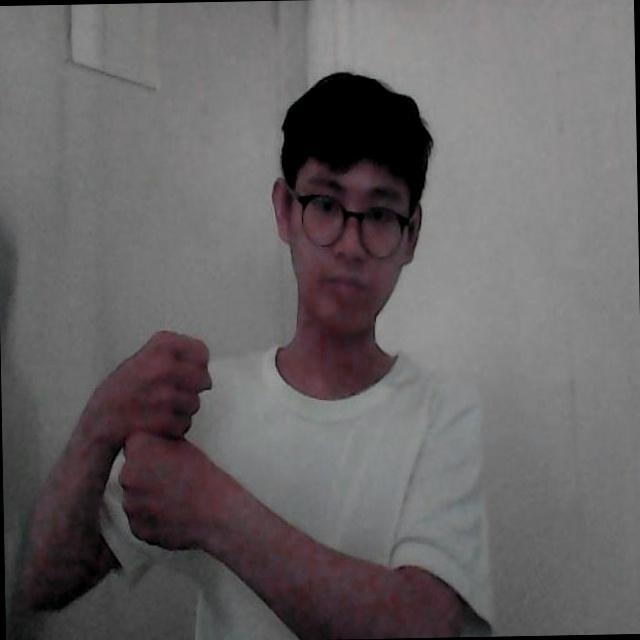G: (92, 296, 238, 558)
